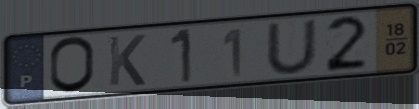1: (168, 26, 193, 85), (221, 26, 244, 78)
2: (322, 13, 372, 75)
K: (106, 33, 148, 88)
O: (47, 35, 97, 96)
U: (264, 17, 320, 76)
